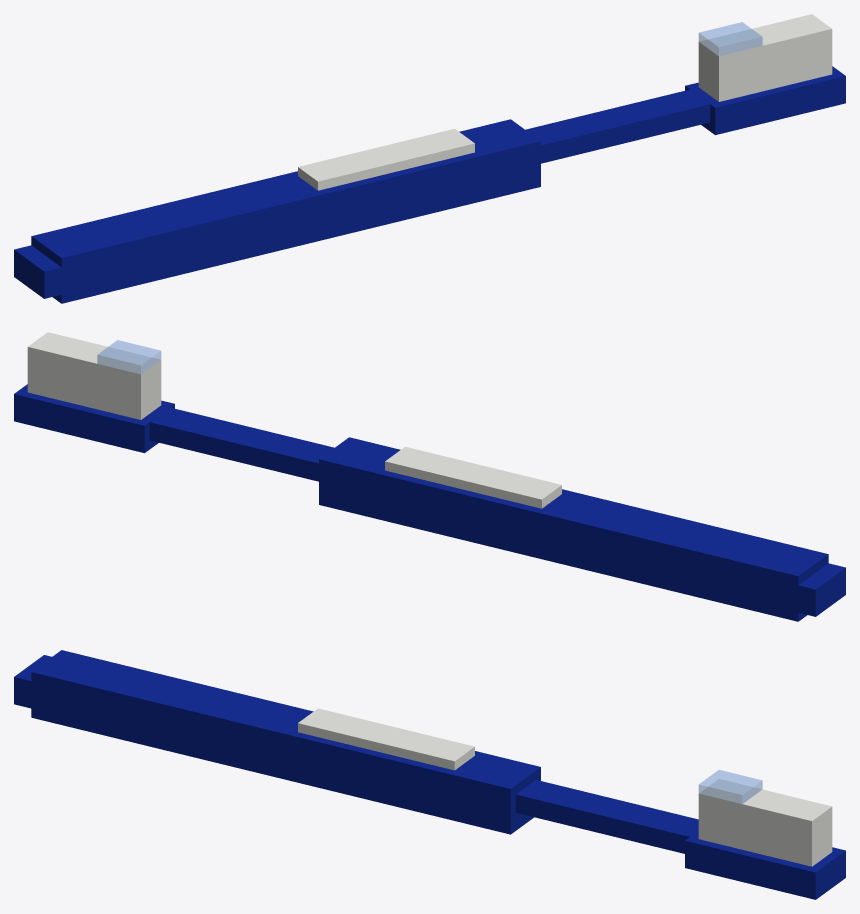
The model's file is toothbrush.glb.
3 renders of one model, top to bottom at view 1: azimuth 30°, elevation 25°; view 2: azimuth 150°, elevation 25°; view 3: azimuth 330°, elevation 25°, orthographic.
Parts seen in each view (by area): view 1: toothbrush:compound; view 2: toothbrush:compound; view 3: toothbrush:compound.
Boxes of the visible parts, x1=… form: toothbrush:compound: x1=14, y1=14, x2=845, y2=303; toothbrush:compound: x1=14, y1=332, x2=845, y2=621; toothbrush:compound: x1=14, y1=650, x2=845, y2=899.
Size of the model in its own units: 0.184 by 0.02 by 0.012.
